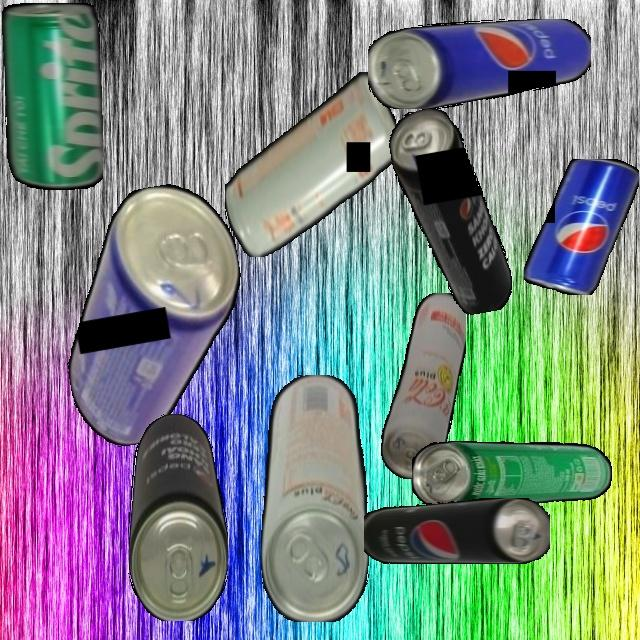debris: (40, 175, 266, 453), (224, 71, 400, 257), (385, 100, 516, 323), (260, 374, 369, 622), (127, 413, 228, 621), (368, 18, 591, 109), (1, 3, 103, 190), (380, 292, 466, 479), (523, 159, 639, 295), (412, 440, 612, 508), (363, 498, 550, 564)
